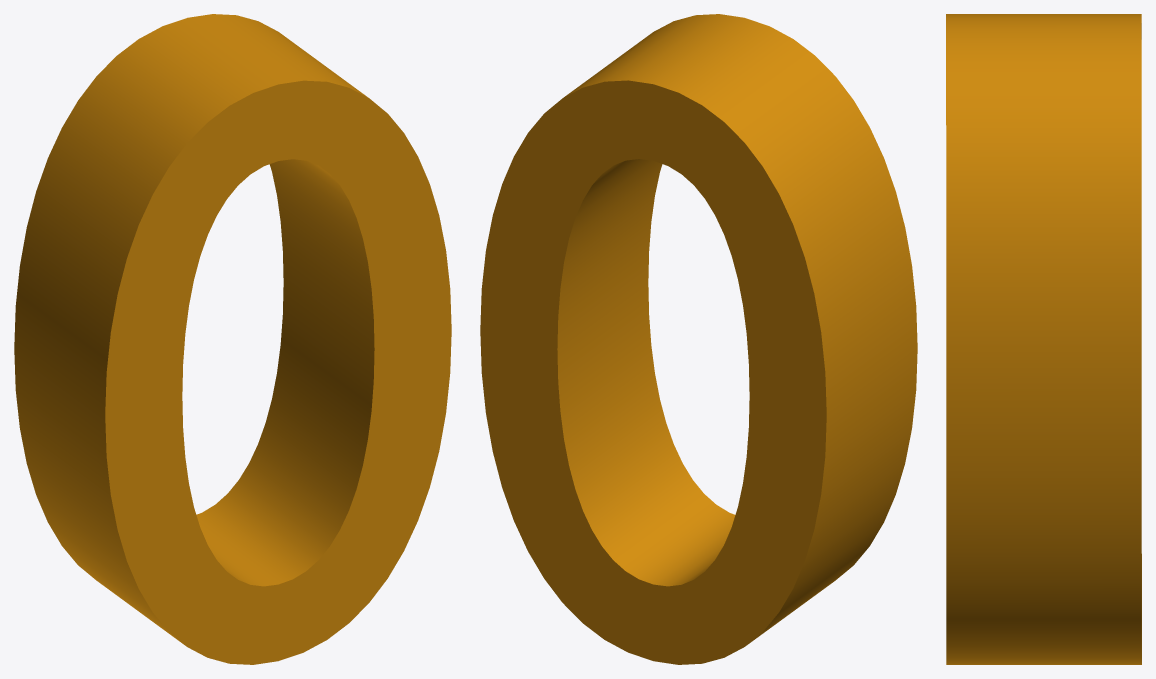
The picture shows the model from 3 angles, left to right: view 1: azimuth 30°, elevation 25°; view 2: azimuth 150°, elevation 25°; view 3: azimuth 270°, elevation 25°; orthographic projection. The views are drawn at different scales.
Parts seen in each view (by area): view 1: Text; view 2: Text; view 3: Text.
Part boxes in pixels (left/top/right/bottom): Text: left=14, top=14, right=451, bottom=664; Text: left=480, top=14, right=917, bottom=664; Text: left=946, top=14, right=1141, bottom=664.
Bounding box in the file's own units: 0.44 × 0.7001 × 0.2004.
